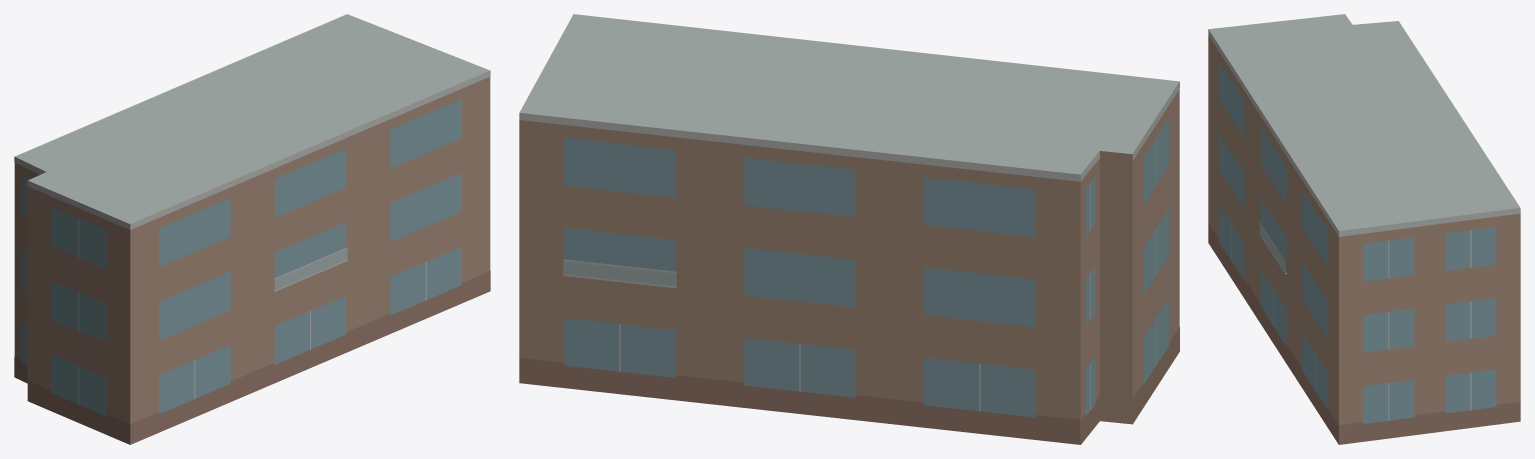
The model's file is survey-upis-32946433.glb.
3 views of the same model, side by side, from view 1: azimuth 30°, elevation 25°; view 2: azimuth 150°, elevation 25°; view 3: azimuth 270°, elevation 25° (orthographic). The views are drawn at different scales.
Parts seen in each view (by area): view 1: survey-upis-32946433.tmp; view 2: survey-upis-32946433.tmp; view 3: survey-upis-32946433.tmp.
Boxes of the visible parts, x1,y1,x2,y2 form: survey-upis-32946433.tmp: (14,14,490,444); survey-upis-32946433.tmp: (519,14,1179,444); survey-upis-32946433.tmp: (1208,14,1520,444).
Bounding box in the file's own units: 19.96 × 9.15 × 12.12.
